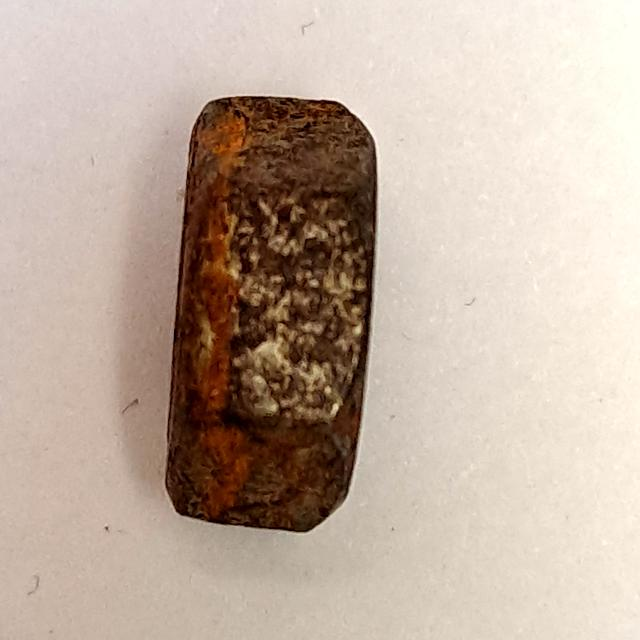Side_Rust: (143, 72, 404, 547)
